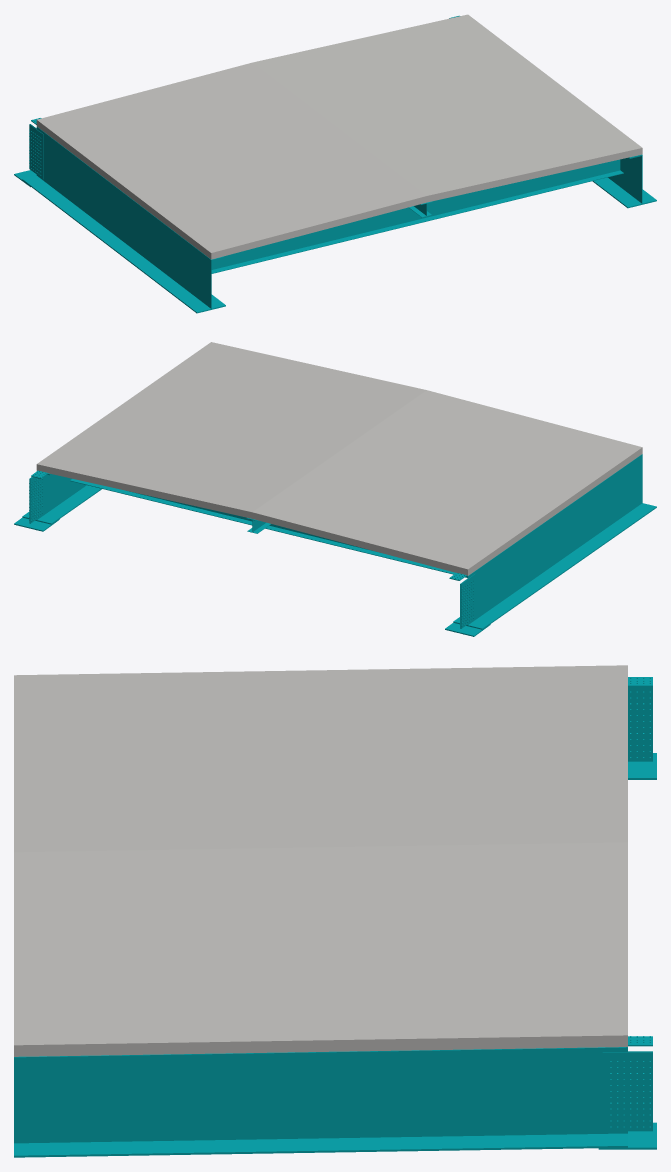
File: DECK_NN04.glb
3 renders of one model, top to bottom at view 1: azimuth 30°, elevation 25°; view 2: azimuth 150°, elevation 25°; view 3: azimuth 270°, elevation 25°, orthographic. The views are drawn at different scales.
Parts seen in each view (by area): view 1: NN04_Slab_15, NN04_G_W_0, NN04_FB_web_11, NN04_FB_bf_14, NN04_G_E_1, NN04_SpliceW_17; view 2: NN04_Slab_15, NN04_G_W_0, NN04_G_E_1, NN04_FB_bf_6, NN04_SpliceW_17, NN04_SpliceW_25, NN04_FB_web_3; view 3: NN04_Slab_15, NN04_G_E_1, NN04_SpliceW_26, NN04_SpliceW_18.
Boxes of the visible parts, x1,y1,x2,y2 form: NN04_Slab_15: (36, 14, 642, 259); NN04_G_W_0: (22, 127, 225, 313); NN04_FB_web_11: (211, 159, 620, 269); NN04_FB_bf_14: (211, 170, 623, 273); NN04_G_E_1: (592, 154, 656, 208); NN04_SpliceW_17: (29, 124, 43, 179); NN04_Slab_15: (36, 342, 642, 575); NN04_G_W_0: (453, 454, 656, 629); NN04_G_E_1: (22, 473, 101, 524); NN04_FB_bf_6: (70, 479, 467, 577); NN04_SpliceW_17: (461, 574, 475, 628); NN04_SpliceW_25: (30, 476, 44, 523); NN04_FB_web_3: (129, 491, 372, 550); NN04_Slab_15: (14, 665, 627, 1056); NN04_G_E_1: (14, 1047, 627, 1157); NN04_SpliceW_26: (602, 1052, 652, 1131); NN04_SpliceW_18: (628, 687, 652, 761).
Size of the model in its own units: 18.26 by 2.54 by 12.57.
